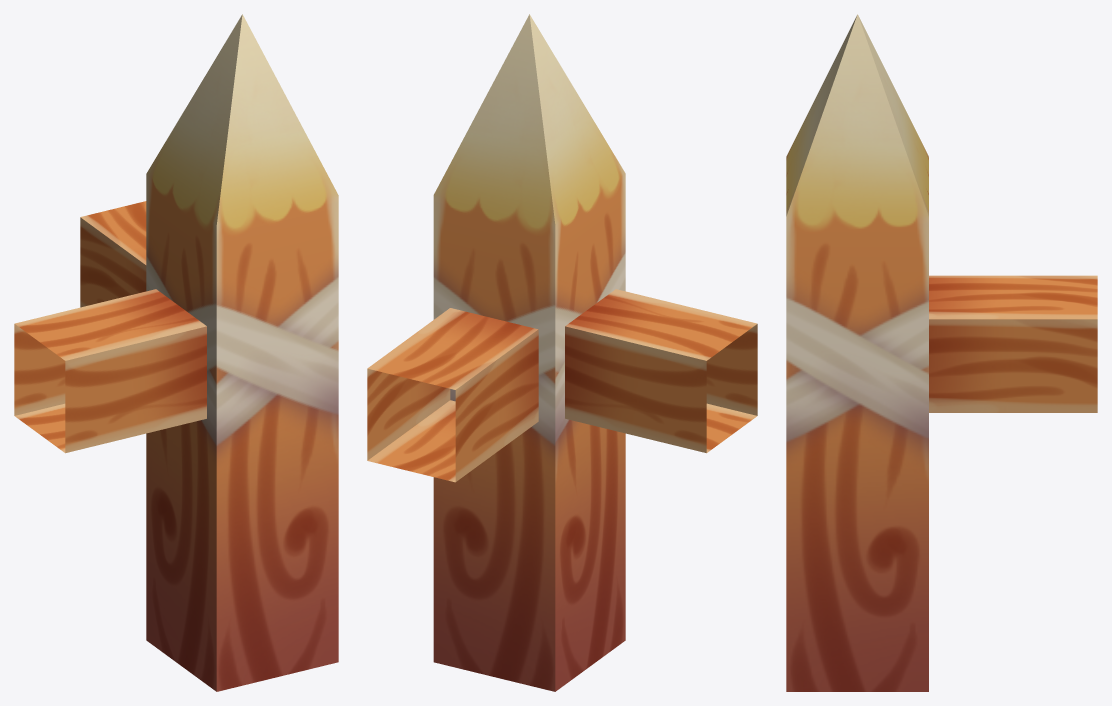
The model's file is Fence_Corner.FBX.
3 views of the same model, side by side, from view 1: azimuth 30°, elevation 25°; view 2: azimuth 150°, elevation 25°; view 3: azimuth 270°, elevation 25° (orthographic).
Visible parts, largest first — view 1: Fences_Corner; view 2: Fences_Corner; view 3: Fences_Corner.
Boxes of the visible parts, x1,y1,x2,y2 form: Fences_Corner: (14,14,338,691); Fences_Corner: (367,14,757,691); Fences_Corner: (786,14,1097,691).
Size of the model in its own units: 0.6491 by 1.5 by 0.654.
